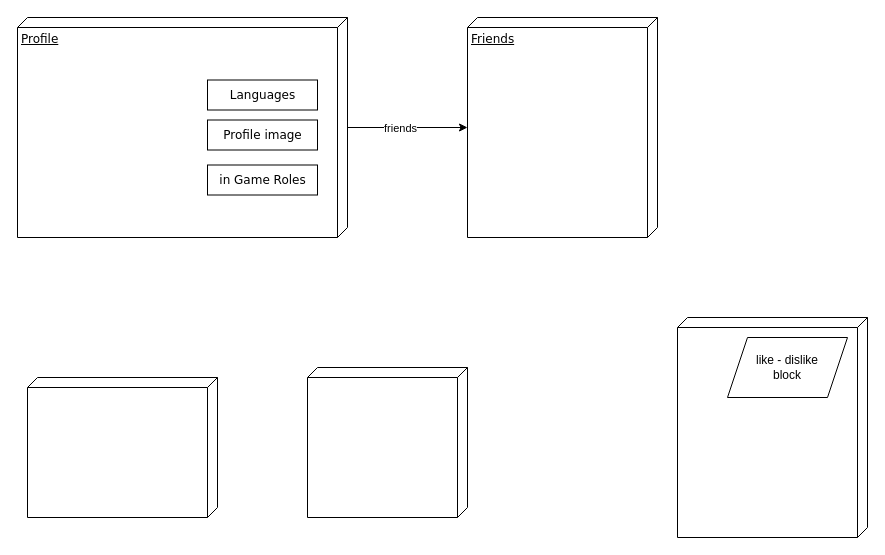
Image size: 885x555. Some labels were removed from this diagram. Here are the shapes that lost their labels. From the top down, the box of each, then its label:
(26, 376, 218, 518): LogIn
(306, 366, 468, 518): SignUp
(676, 316, 868, 538): Users
